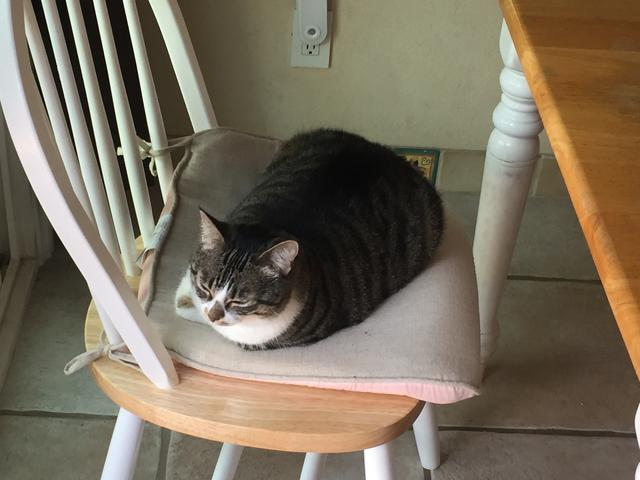playdoh: (172, 129, 446, 352)
